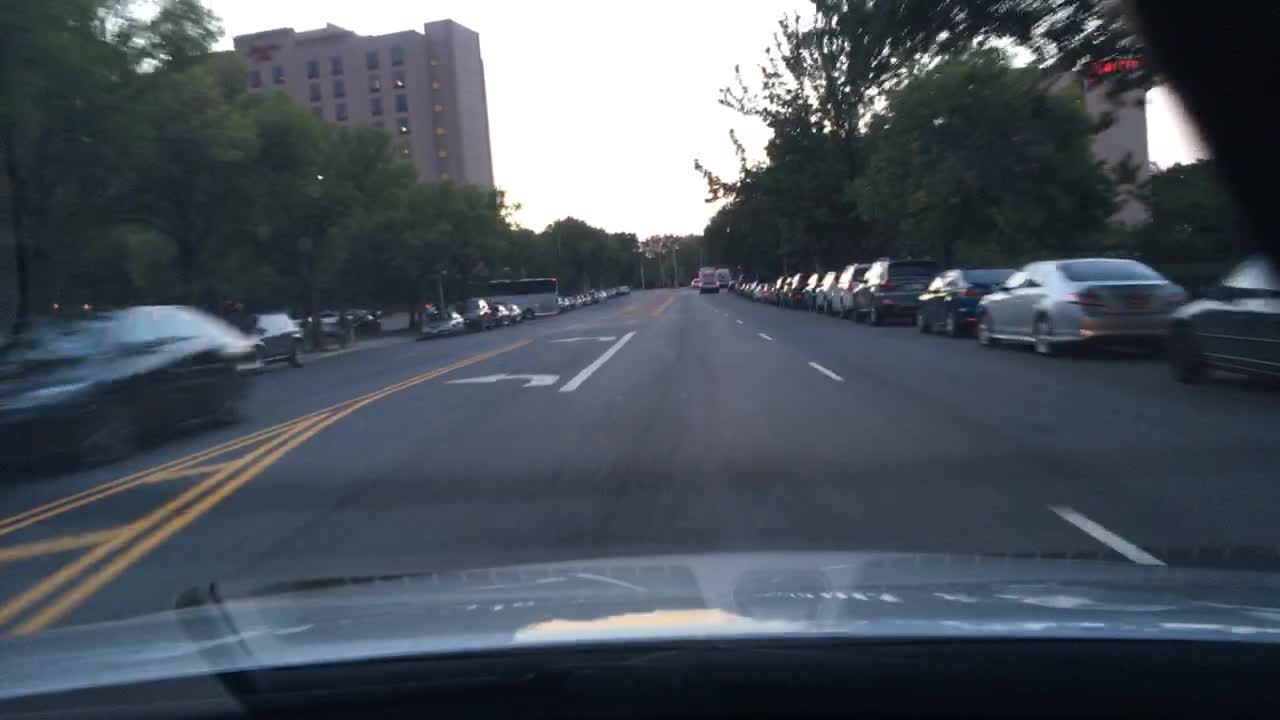bus: (490, 276, 563, 316), (698, 264, 718, 291)
car: (0, 302, 249, 462), (977, 257, 1191, 353), (1166, 245, 1280, 383), (914, 262, 1012, 337), (862, 257, 931, 327), (234, 313, 311, 362), (302, 307, 352, 343), (837, 261, 864, 325), (420, 307, 466, 337), (343, 307, 386, 336), (816, 270, 839, 313), (455, 297, 493, 322), (801, 270, 821, 310), (774, 271, 791, 302), (788, 273, 802, 307), (718, 264, 733, 284), (759, 285, 776, 302), (490, 302, 504, 322), (504, 304, 521, 320), (748, 279, 764, 296), (555, 294, 573, 308), (733, 273, 745, 291), (688, 273, 702, 287), (604, 287, 618, 299), (742, 282, 753, 296), (618, 282, 630, 294), (592, 288, 604, 300), (573, 294, 583, 307), (581, 291, 593, 300)
